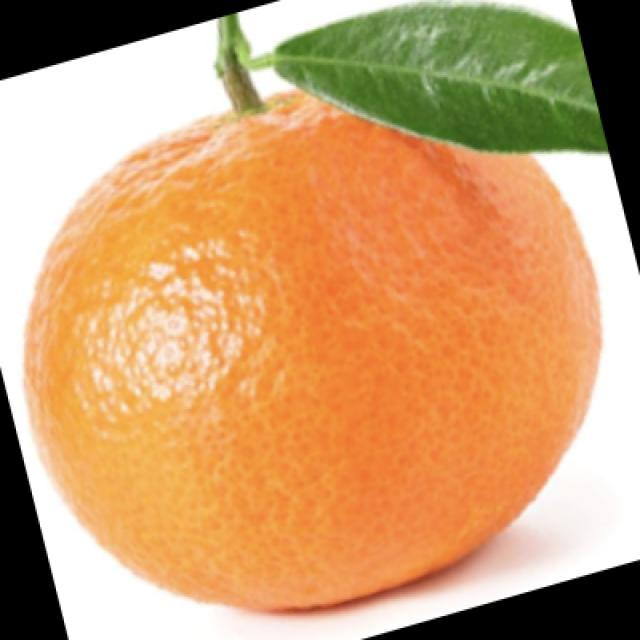matang: (26, 91, 601, 610)
